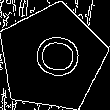O_W: (23, 32, 81, 83)
